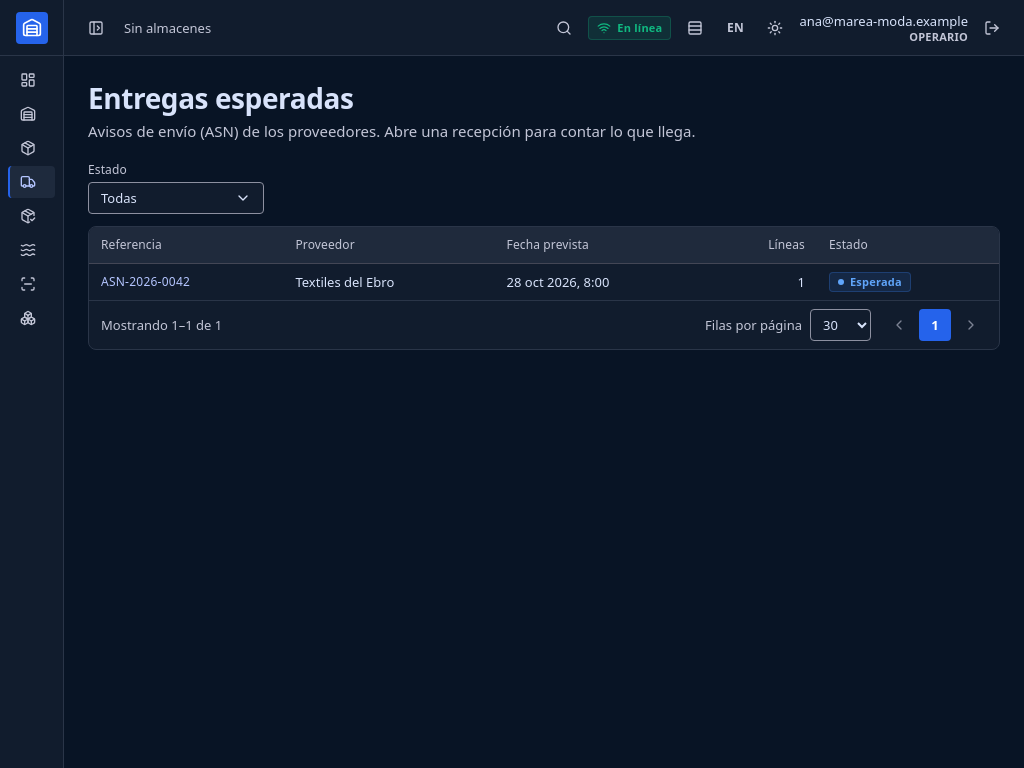
it: the expected deliveries › asks for the status the person filters by
The width and height of the screenshot is (1024, 768).
Check: the link "ASN-2026-0042" is shown, box [101,272,190,290]
Click the dropdown named "Estado". click: x=176, y=198
box: [88,182,264,214]
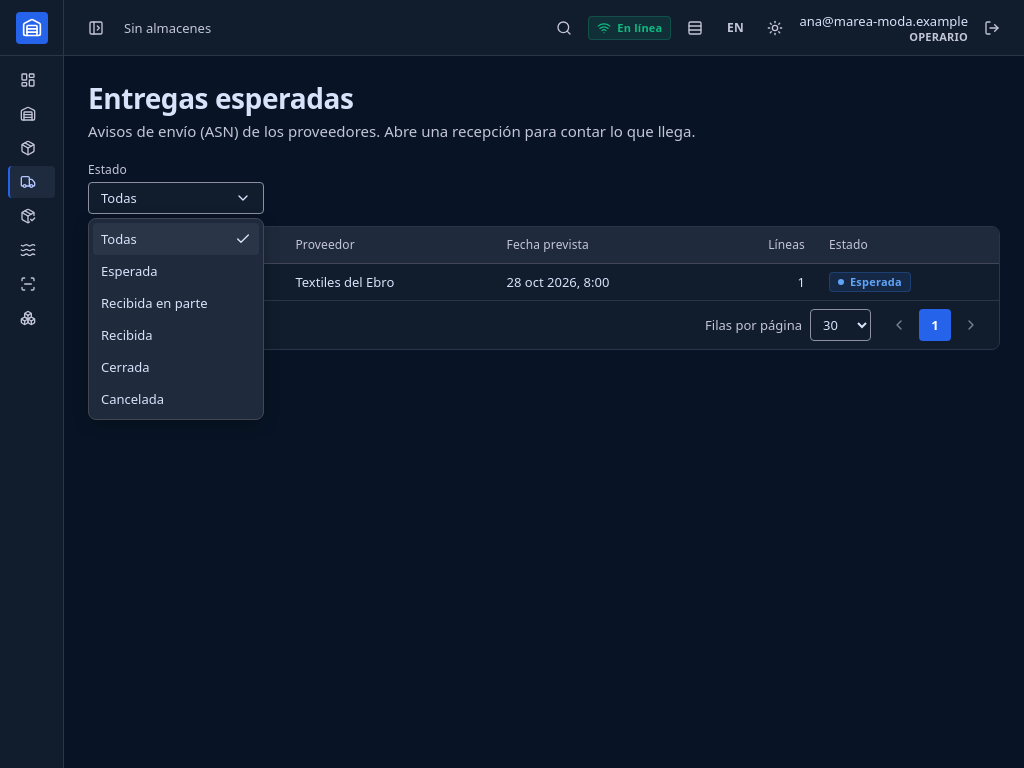
Click the option "Cerrada". click: x=125, y=367
box: [101,358,150,376]
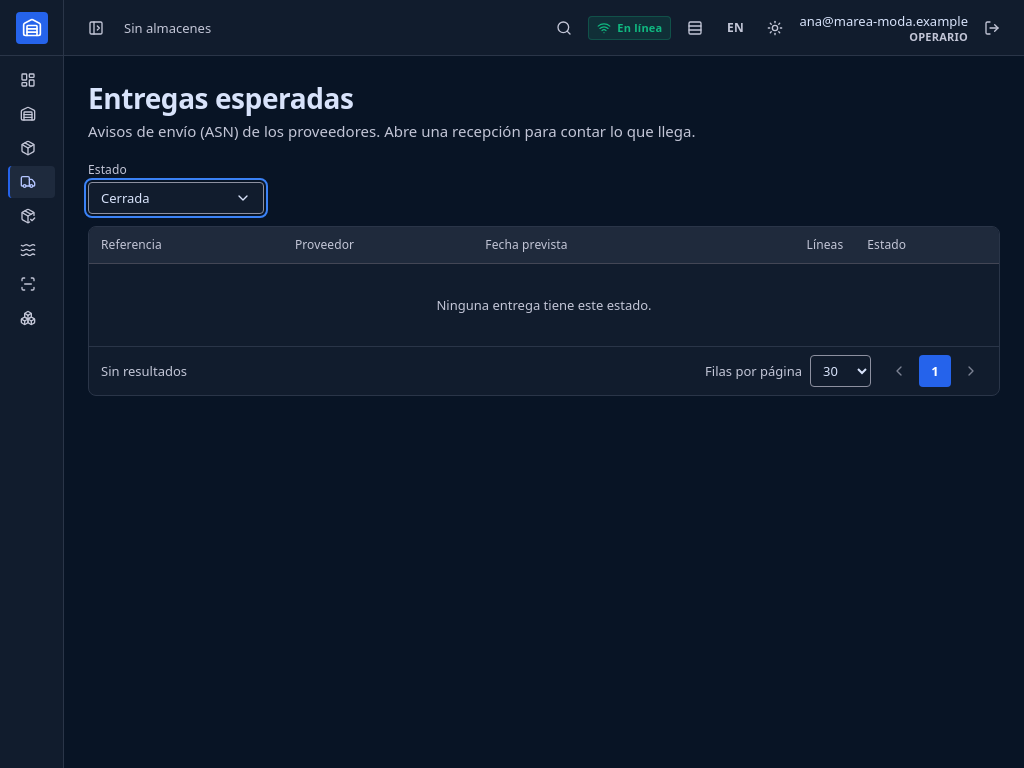
Check: the text "Ninguna entrega tiene este estado." is shown, box [89,264,999,346]
